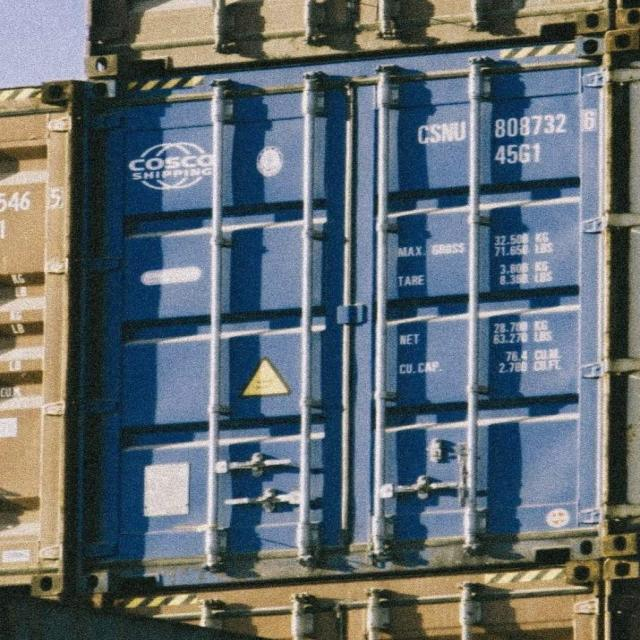ISO: (497, 142, 543, 166)
container_number: (422, 113, 580, 139)
